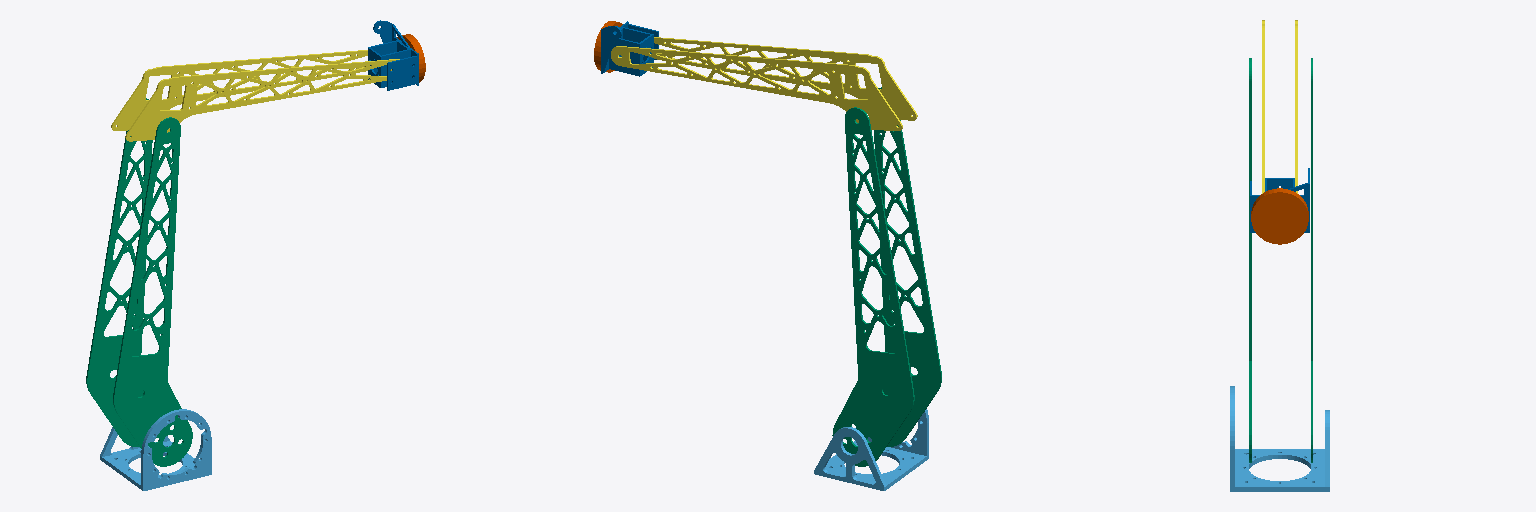
URDF robot description (mr_arm):
<?xml version="1.0" ?>

<robot name="mr_arm">
  <!-- Base link is the center of the robot's bottom plate -->
  <link name="link_0">
    <visual>
      <origin xyz="0 0 0" rpy="0 0 0" />
      <geometry>
        <mesh filename="meshes/Link0.stl" />
      </geometry>
    </visual>
    <collision>
      <origin xyz="0 0 0" rpy="0 0 0" />
      <geometry>
        <mesh filename="meshes/collision_Link0.stl" />
      </geometry>
    </collision>
  </link>

  <joint name="joint_1" type="revolute">
    <origin xyz="0 0 0" rpy="0 0 0" />
    <parent link="link_0" />
    <child link="link_1" />
    <axis xyz="0 0 1" />
    <limit effort="10.0" velocity="2.61799" lower="-1.570796327" upper="1.570796327" />
    <dynamics damping="0.5"/>
  </joint>

  <!-- Joint 1 -->
  <link name="link_1">
    <visual>
      <origin xyz="0 0 0" rpy="0 0 0" />
      <geometry>
        <mesh filename="meshes/Link1.stl" />
      </geometry>
    </visual>
    <collision>
      <origin xyz="0 0 0" rpy="0 0 0" />
      <geometry>
        <mesh filename="meshes/collision_Link1.stl" />
      </geometry>
    </collision>
  </link>

  <joint name="joint_2" type="revolute">
    <origin xyz="0 0 0.0575" rpy="0 0 0" />
    <parent link="link_1" />
    <child link="link_2" />
    <axis xyz="0 1 0" />
    <limit effort="10.0" velocity="2.61799" lower="-1.570796327" upper="1.570796327" />
    <dynamics damping="0.5"/>
  </joint>


  <link name="link_2">
    <visual>
      <origin xyz="0 0 0" rpy="0 0 0" />
      <geometry>
        <mesh filename="meshes/Link2.stl" />
      </geometry>
    </visual>
    <collision>
      <origin xyz="0 0 0" rpy="0 0 0" />
      <geometry>
        <mesh filename="meshes/collision_Link2.stl" />
      </geometry>
    </collision>
  </link>

  <joint name="joint_3" type="revolute">
    <origin xyz="0 0 0.5" rpy="0 0 0" />
    <parent link="link_2" />
    <child link="link_3" />
    <axis xyz="0 1 0" />
    <limit effort="10.0" velocity="2.61799" lower="-1.570796327" upper="1.570796327" />
    <dynamics damping="0.5"/>
  </joint>


  <link name="link_3">
    <visual>
      <origin xyz="0 0 0" rpy="0 0 0" />
      <geometry>
        <mesh filename="meshes/Link3.stl" />
      </geometry>
    </visual>
    <collision>
      <origin xyz="0 0 0" rpy="0 0 0" />
      <geometry>
        <mesh filename="meshes/collision_Link3.stl" />
      </geometry>
    </collision>
  </link>

  <joint name="joint_4" type="revolute">
    <origin xyz="0.4 0 0" rpy="0 0 0" />
    <parent link="link_3" />
    <child link="link_4" />
    <axis xyz="0 1 0" />
    <limit effort="10.0" velocity="2.61799" lower="-1.570796327" upper="1.570796327" />
    <dynamics damping="0.5"/>
  </joint>


  <link name="link_4">
    <visual>
      <origin xyz="0 0 0" rpy="0 0 0" />
      <geometry>
        <mesh filename="meshes/Link4.stl" />
      </geometry>
    </visual>
    <collision>
      <origin xyz="0 0 0" rpy="0 0 0" />
      <geometry>
        <mesh filename="meshes/collision_Link4.stl" />
      </geometry>
    </collision>
  </link>

  <joint name="joint_5" type="revolute">
    <origin xyz="0.034 0 0" rpy="0 0 0" />
    <parent link="link_4" />
    <child link="link_5" />
    <axis xyz="1 0 0" />
    <limit effort="10.0" velocity="2.61799" lower="-3.141592" upper="3.141592" />
    <dynamics damping="0.5"/>
  </joint>


  <link name="link_5">
    <visual>
      <origin xyz="0 0 0" rpy="0 0 0" />
      <geometry>
        <mesh filename="meshes/Link5.stl" />
      </geometry>
    </visual>
    <collision>
      <origin xyz="0 0 0" rpy="0 0 0" />
      <geometry>
        <mesh filename="meshes/collision_Link5.stl" />
      </geometry>
    </collision>
  </link>


</robot>

--- Facts derived from the render (not from the file) ---
The picture shows the robot from 3 angles, left to right: view 1: azimuth 30°, elevation 25°; view 2: azimuth 150°, elevation 25°; view 3: azimuth 270°, elevation 25°; orthographic projection.
Robot: mr_arm — 6 links, 5 joints (5 revolute); root link link_0; default pose: all joints at 0.
Links seen in each view (by area): view 1: link_2, link_3, link_1, link_4; view 2: link_2, link_3, link_1, link_4; view 3: link_1, link_5, link_2, link_3, link_4.
Link boxes in pixels (x1,y1,x2,y2): link_2: (86, 98, 192, 466); link_3: (111, 50, 399, 141); link_1: (100, 409, 211, 490); link_4: (368, 20, 418, 90); link_2: (832, 87, 941, 466); link_3: (611, 37, 917, 130); link_1: (814, 409, 928, 490); link_4: (601, 21, 658, 76); link_1: (1230, 386, 1329, 491); link_5: (1251, 188, 1308, 244); link_2: (1249, 58, 1312, 462); link_3: (1262, 20, 1297, 193); link_4: (1250, 168, 1309, 232).
Bounding box of the posed robot: 0.5269 × 0.127 × 0.6321 m (x, y, z).
Meshes: 6 distinct files referenced, 5 mesh visuals loaded (5 binary STL); not drawn: 1 (reference not matched to a file when rendering).